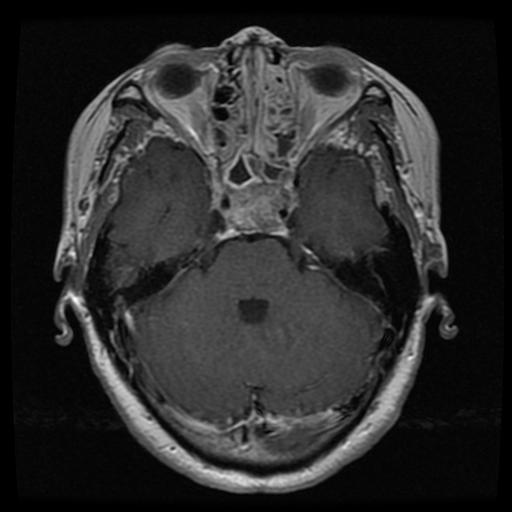Pituirity_tumour: (226, 178, 279, 229)
